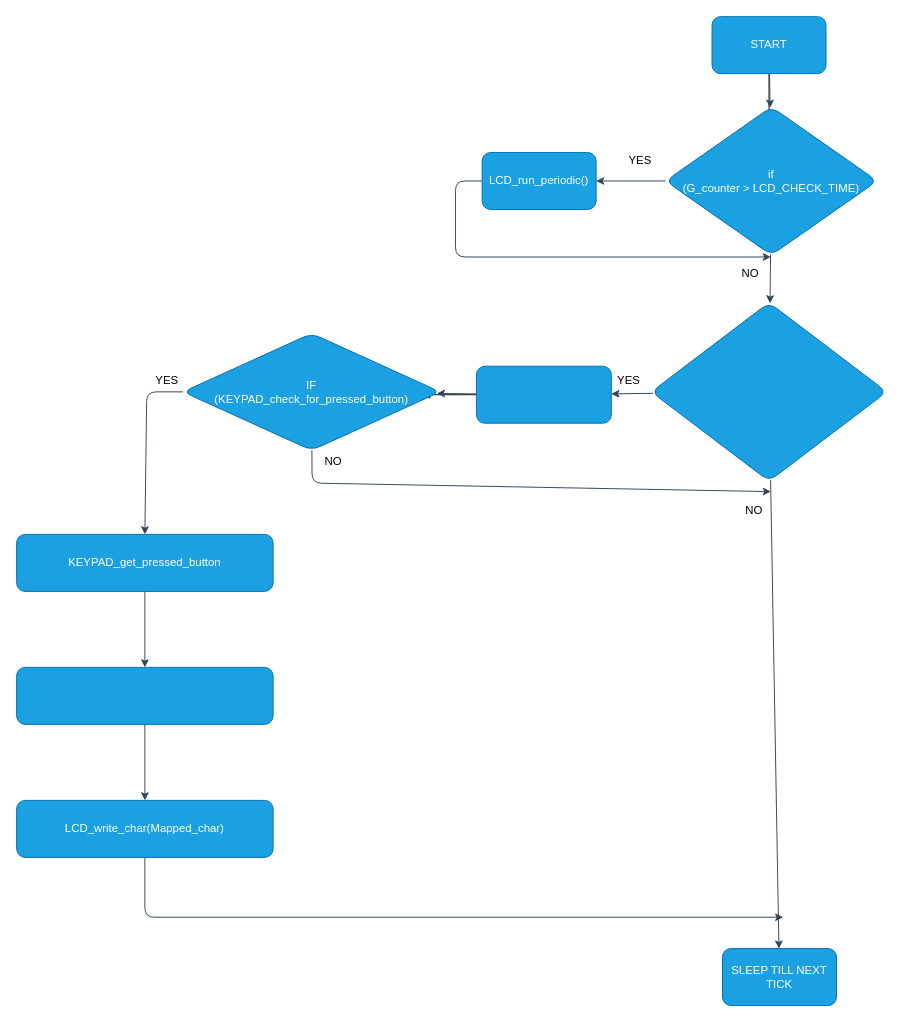
The diagram is 903 pixels wide and 1022 high, and some of its shapes have lost their labels. Each missing label, with the centre of its shape:
if (G_counter > KEYPAD_CHECK_TIME): the point at 768,391
KEYPAD_run_periodic(): the point at 543,394
Map pressed button to char: the point at 144,695
